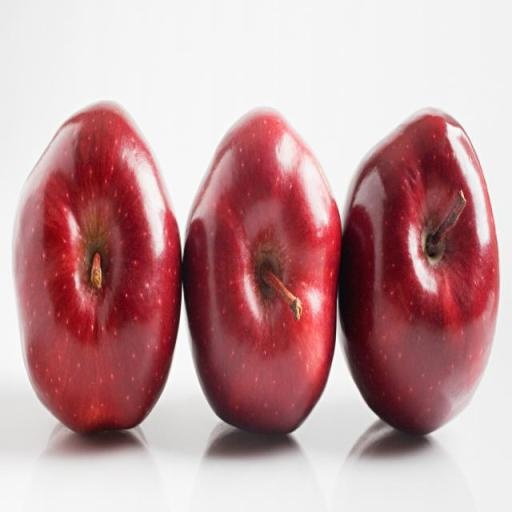fruit: (13, 104, 179, 431), (339, 111, 498, 433), (183, 112, 339, 432)
